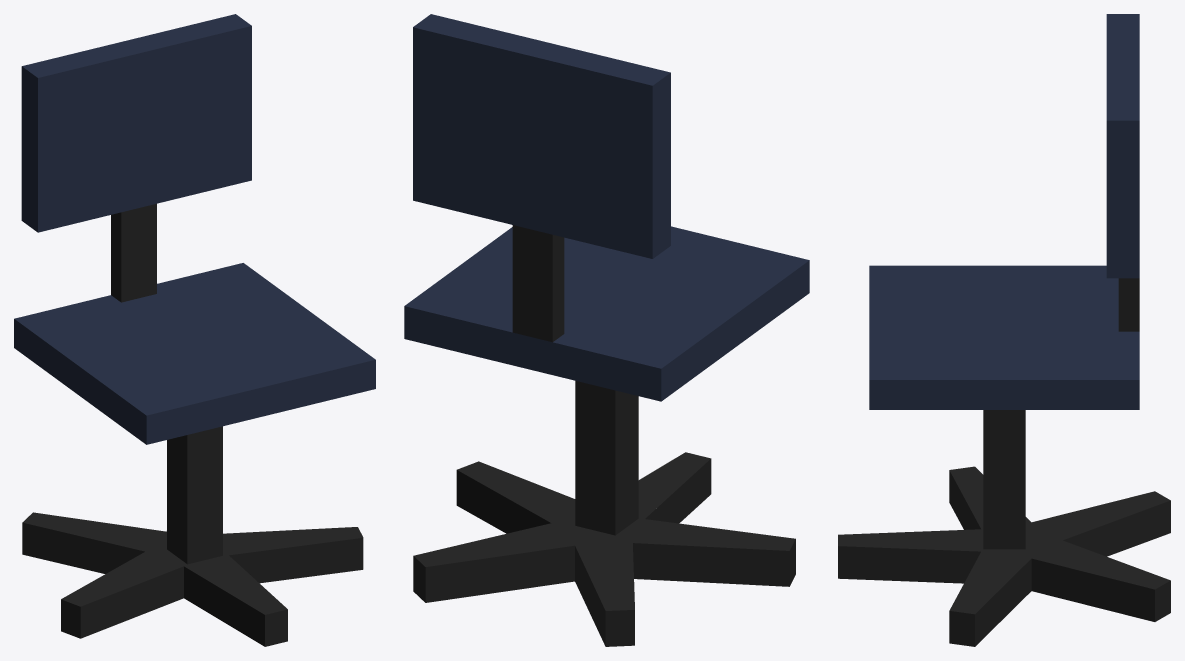
The model's file is prop_chair_office.obj.
3 views of the same model, side by side, from view 1: azimuth 30°, elevation 25°; view 2: azimuth 150°, elevation 25°; view 3: azimuth 270°, elevation 25° (orthographic). The views are drawn at different scales.
Parts seen in each view (by area): view 1: prop_chair_office; view 2: prop_chair_office; view 3: prop_chair_office.
Boxes of the visible parts, x1,y1,x2,y2 form: prop_chair_office: (14, 14, 375, 646); prop_chair_office: (404, 14, 809, 646); prop_chair_office: (838, 14, 1170, 646).
Size of the model in its own units: 0.583 by 0.93 by 0.5544.
